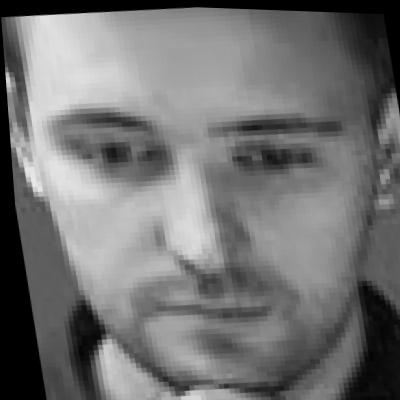netural: (14, 0, 394, 381)
